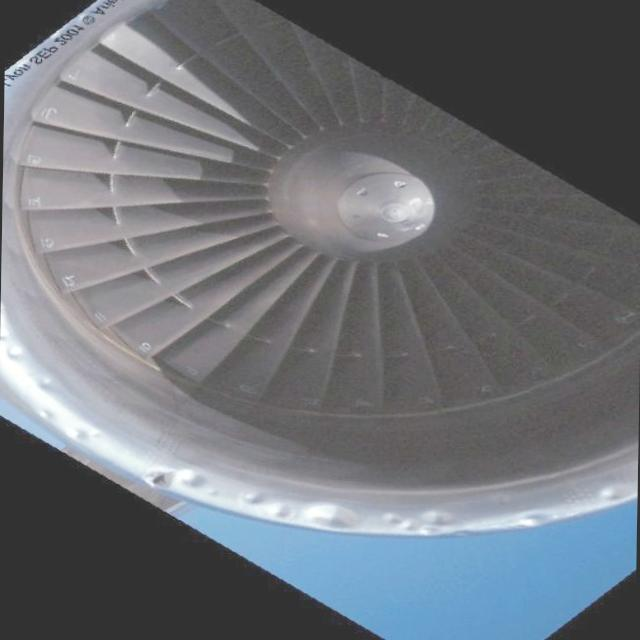dent: (234, 498, 482, 544)
